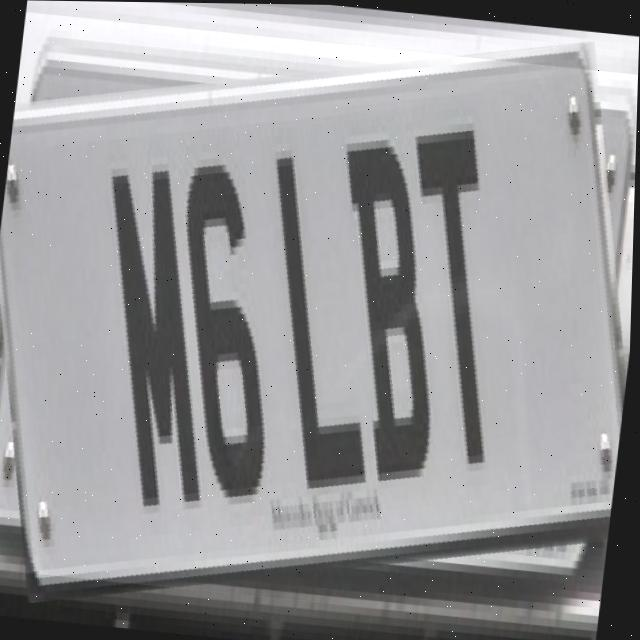LicensePlate: (0, 11, 640, 629)
